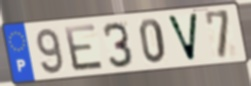0: (137, 17, 167, 66)
3: (102, 20, 135, 69)
7: (202, 9, 232, 61)
9: (33, 27, 66, 76)
E: (62, 22, 107, 73)
V: (165, 12, 200, 64)
